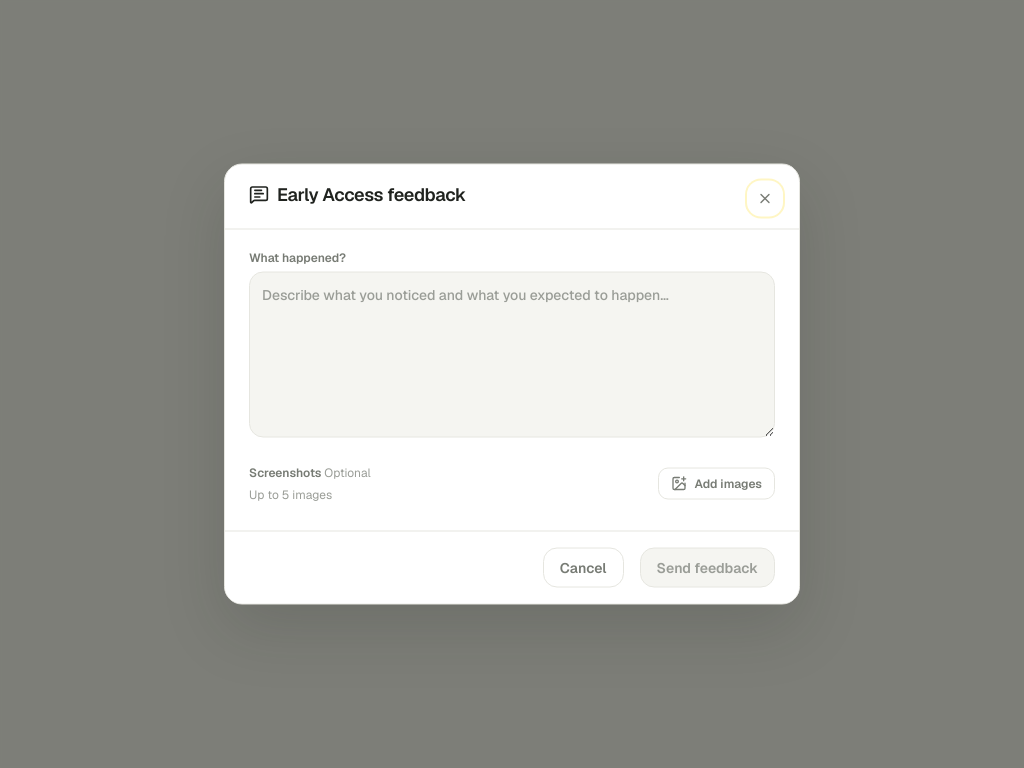
Test case: FeedbackModal › keeps the dialog open and displays the server error
Type "A useful report" into the text box labelled "What happened?" at (512, 354), box [249,272,775,438]
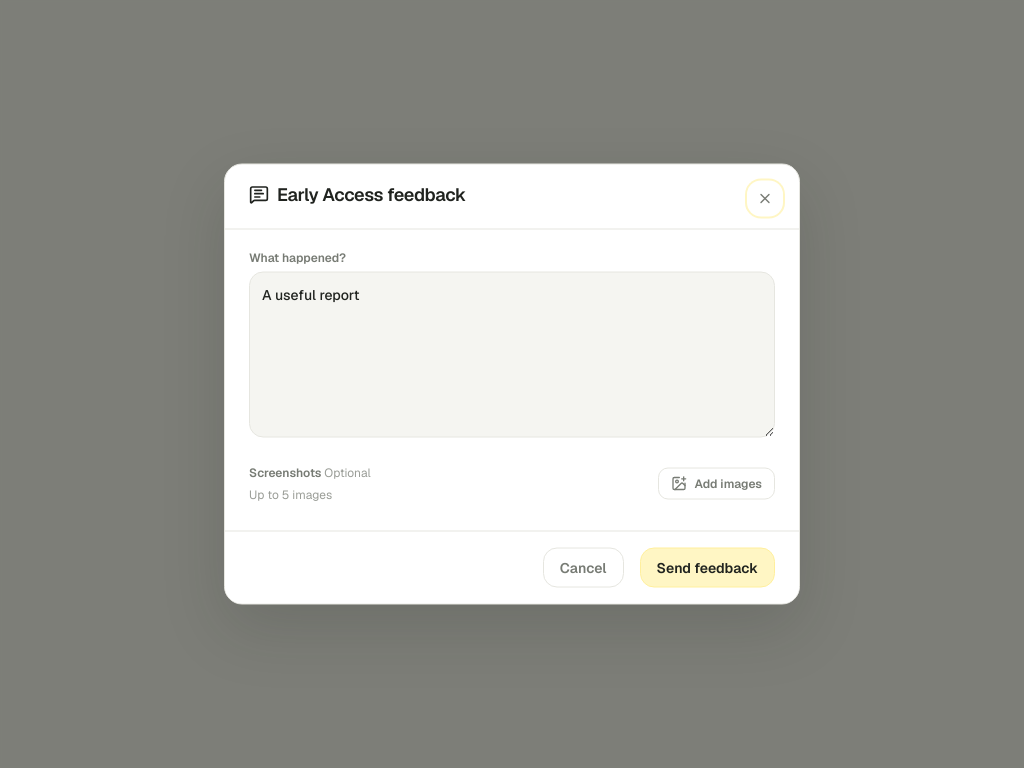
Click the button "Send feedback" at (707, 568), box [640,548,775,588]
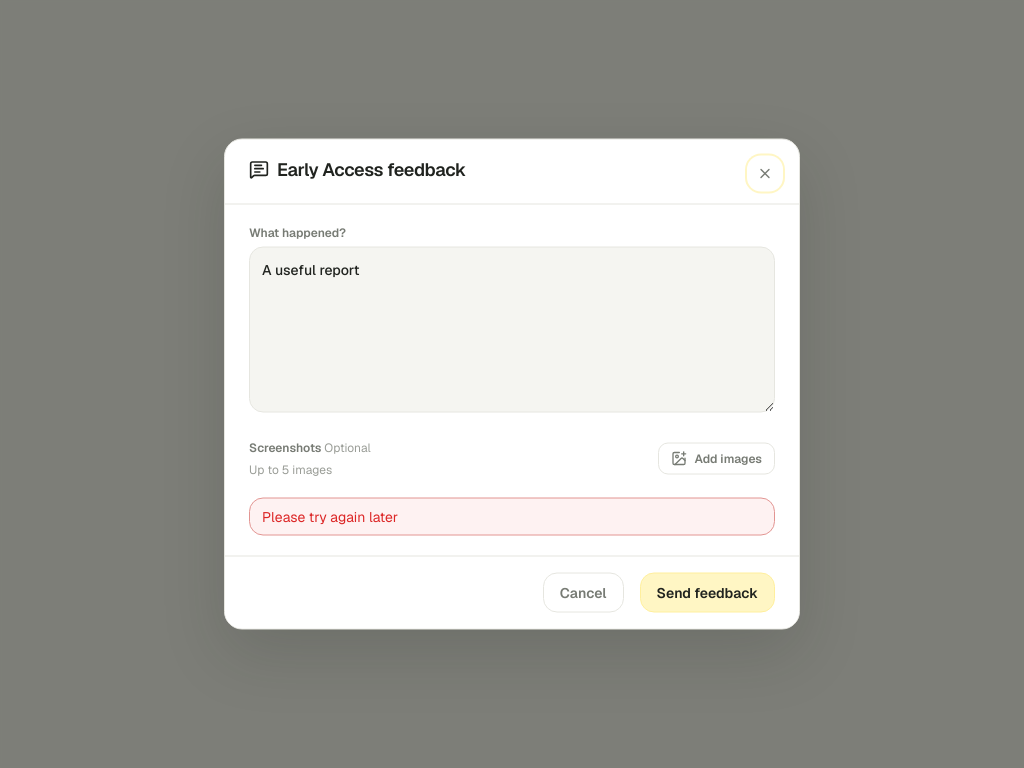
Check: the text "Please try again later" is shown, box [249,498,775,536]
